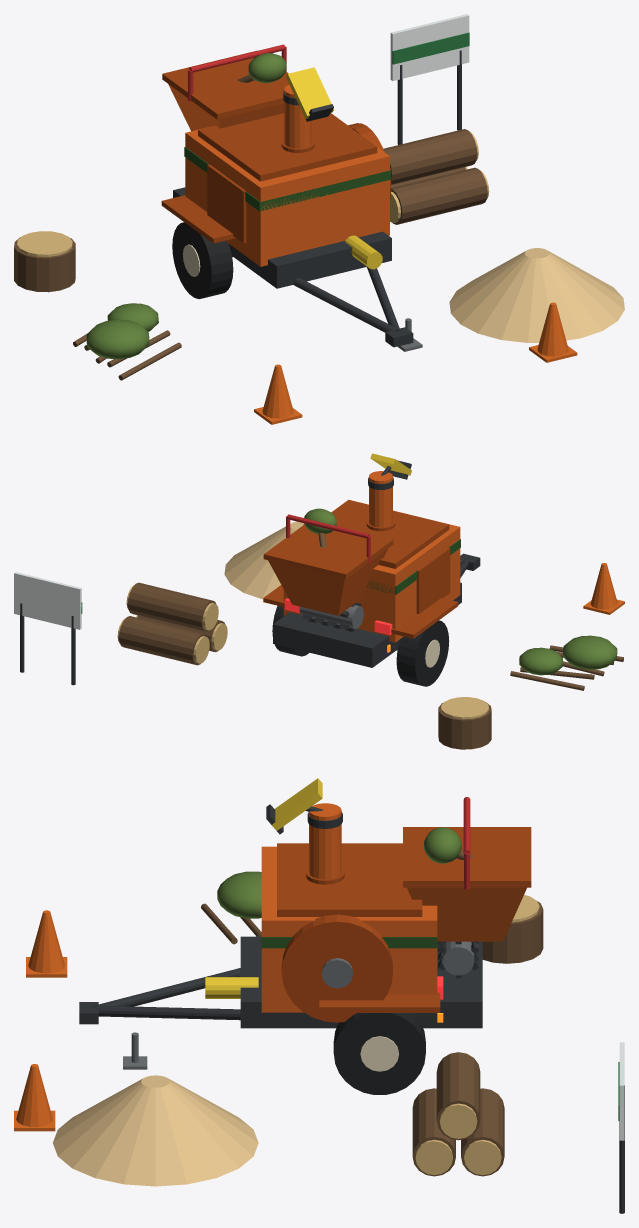
The model's file is wood_chipper.glb.
3 renders of one model, top to bottom at view 1: azimuth 30°, elevation 25°; view 2: azimuth 150°, elevation 25°; view 3: azimuth 270°, elevation 25°, orthographic. The views are drawn at different scales.
Visible parts, largest first — view 1: ChipperBody, FieldProps, DischargeChute; view 2: ChipperBody, FieldProps, DischargeChute, FeedRoller; view 3: ChipperBody, FieldProps, DischargeChute, FeedRoller.
Part boxes in pixels (bbox=[...]): ChipperBody: bbox=[161, 44, 422, 351]; FieldProps: bbox=[14, 14, 624, 424]; DischargeChute: bbox=[281, 67, 334, 152]; ChipperBody: bbox=[263, 499, 480, 686]; FieldProps: bbox=[14, 521, 624, 749]; DischargeChute: bbox=[366, 453, 411, 531]; FeedRoller: bbox=[299, 602, 363, 631]; ChipperBody: bbox=[79, 797, 531, 1094]; FieldProps: bbox=[14, 871, 624, 1213]; DischargeChute: bbox=[266, 778, 344, 884]; FeedRoller: bbox=[438, 941, 478, 978].
Bounding box in the file's own units: 5.96 × 2.39 × 5.04.
